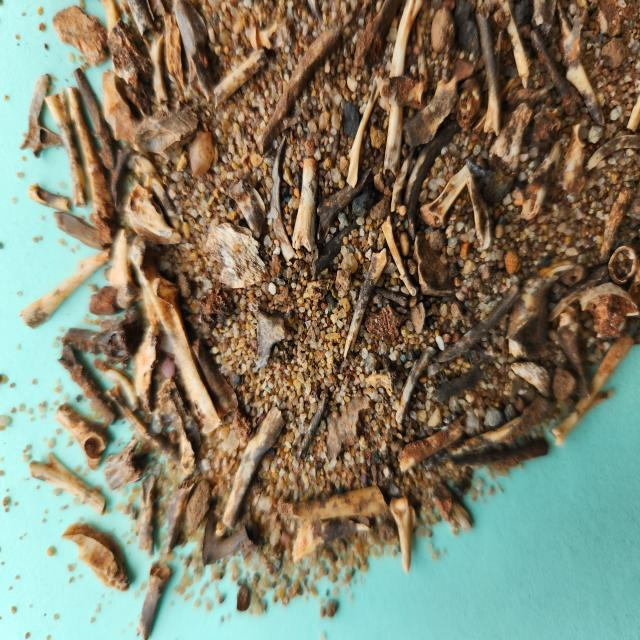fossil: (129, 230, 225, 436), (253, 22, 344, 158), (420, 391, 550, 474), (549, 330, 635, 449), (219, 399, 291, 536), (17, 244, 115, 335), (431, 280, 523, 365), (554, 2, 608, 132), (105, 382, 183, 468), (67, 84, 116, 220), (43, 87, 90, 212), (57, 518, 133, 595), (56, 338, 119, 429), (505, 256, 576, 336), (341, 246, 389, 364), (27, 449, 110, 517), (124, 98, 206, 164), (149, 376, 201, 477), (395, 407, 470, 477), (69, 64, 117, 172), (344, 73, 386, 190), (401, 72, 462, 152), (198, 509, 266, 579), (275, 482, 390, 523), (50, 400, 113, 474), (529, 23, 579, 116), (173, 0, 218, 103), (201, 223, 269, 291), (126, 149, 183, 230), (443, 436, 550, 479), (188, 336, 241, 420), (15, 71, 63, 163), (316, 164, 374, 240), (48, 1, 111, 69), (290, 515, 373, 565), (123, 181, 185, 246), (428, 346, 492, 408), (576, 282, 640, 344), (268, 134, 298, 264), (485, 100, 535, 178), (393, 342, 438, 428), (518, 138, 564, 222), (104, 18, 156, 92), (89, 308, 147, 374), (212, 48, 270, 114), (322, 390, 373, 465), (474, 10, 504, 137), (418, 162, 472, 232), (351, 0, 401, 75), (492, 0, 532, 93), (132, 556, 176, 640), (545, 269, 609, 326), (310, 216, 368, 278), (107, 225, 147, 314), (291, 152, 325, 254), (596, 181, 636, 267), (414, 228, 461, 301), (548, 321, 591, 400), (292, 385, 332, 464), (378, 214, 416, 296), (159, 477, 197, 558), (388, 0, 426, 81), (248, 297, 290, 370), (425, 478, 476, 538), (49, 206, 114, 251), (580, 131, 640, 178), (463, 156, 517, 208), (466, 174, 499, 258), (508, 354, 562, 404), (139, 32, 174, 108), (159, 7, 189, 94), (95, 357, 141, 412), (389, 489, 418, 576), (227, 176, 267, 239), (556, 120, 588, 198), (101, 436, 144, 494), (110, 138, 140, 216), (358, 300, 411, 344), (133, 471, 159, 556), (194, 284, 237, 335), (376, 72, 430, 112), (180, 476, 214, 539), (389, 141, 418, 214), (382, 101, 408, 176), (560, 5, 590, 70), (454, 71, 484, 136), (186, 121, 219, 180), (250, 12, 294, 54), (428, 3, 457, 57), (27, 180, 72, 213), (604, 240, 636, 286), (598, 32, 631, 74), (127, 0, 160, 40), (95, 0, 122, 47), (364, 280, 409, 308), (231, 406, 258, 444), (91, 207, 116, 246), (365, 370, 397, 398), (233, 582, 256, 618), (502, 244, 524, 279), (506, 335, 534, 361), (408, 300, 428, 336), (625, 88, 640, 134), (141, 0, 170, 19)
